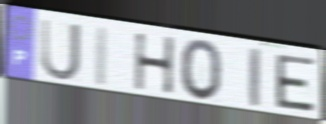E: (273, 52, 317, 115)
H: (133, 31, 177, 96)
I: (92, 23, 111, 89), (247, 45, 262, 110)
O: (179, 37, 224, 103)
U: (39, 16, 83, 83)
